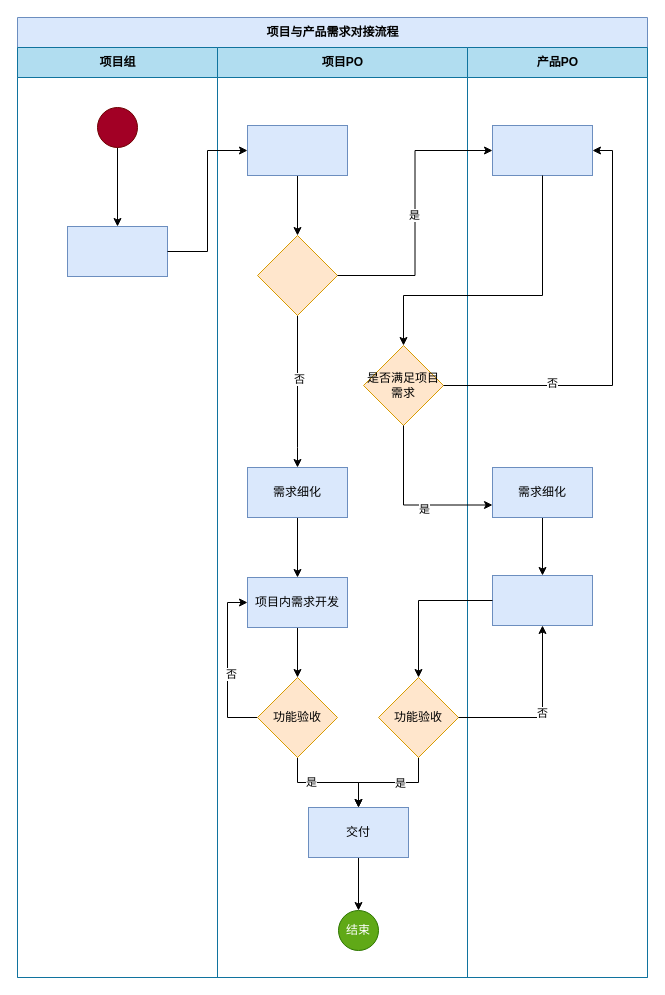
Some shapes in this 665 by 995 pixel diagram are drawn without their labels. Here are the shapes that lost their labels. From the top down, the centre of each, then its label:
At point (117, 127): "开始".
At point (297, 150): "需求收集分析归纳".
At point (542, 150): "结合产品做需求细化".
At point (117, 251): "提出项目需求".
At point (297, 275): "是否纳为产品需求".
At point (542, 600): "产品功能开发".
